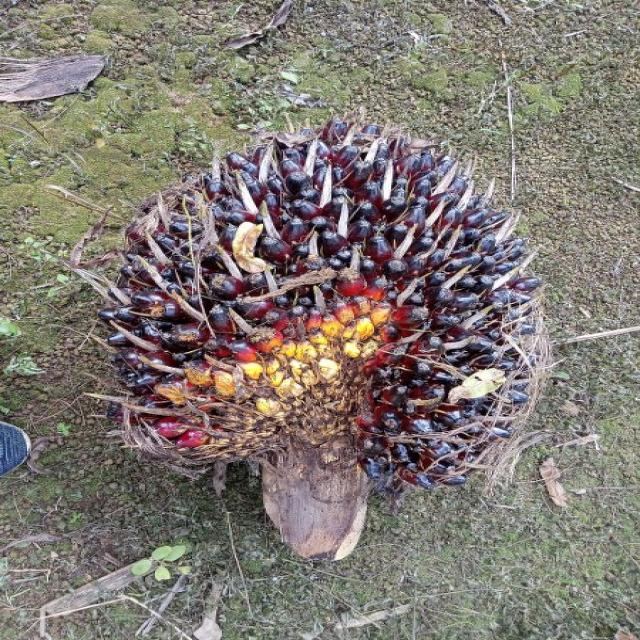fraksi 00: (79, 124, 550, 490)
